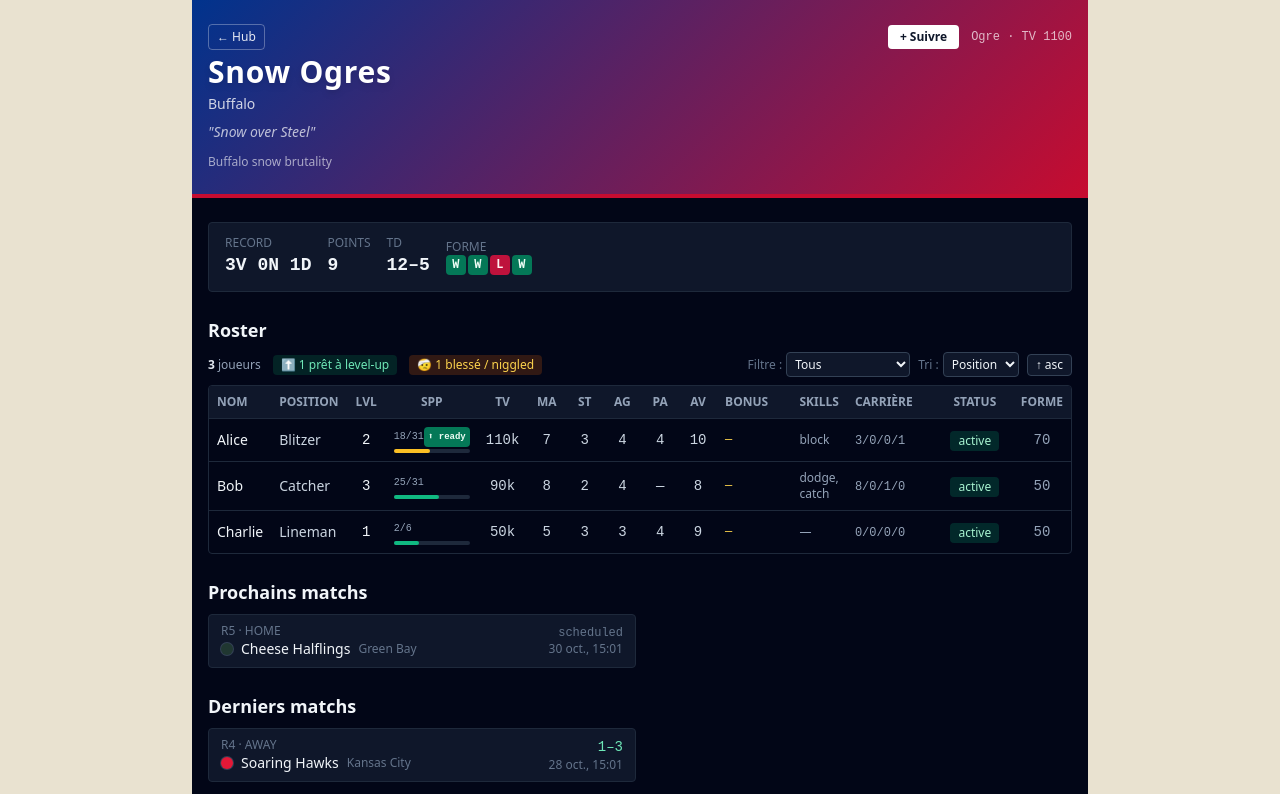
Test case: ProLeagueTeamPage — sprint 1.C.2 › Lot H — filters / sort / ready badge › filtre 'Actifs' exclut les blessés / nigglés
Select "Actifs" in the dropdown with test id "roster-filter" at {"x": 848, "y": 364}, box [786,352,910,377]
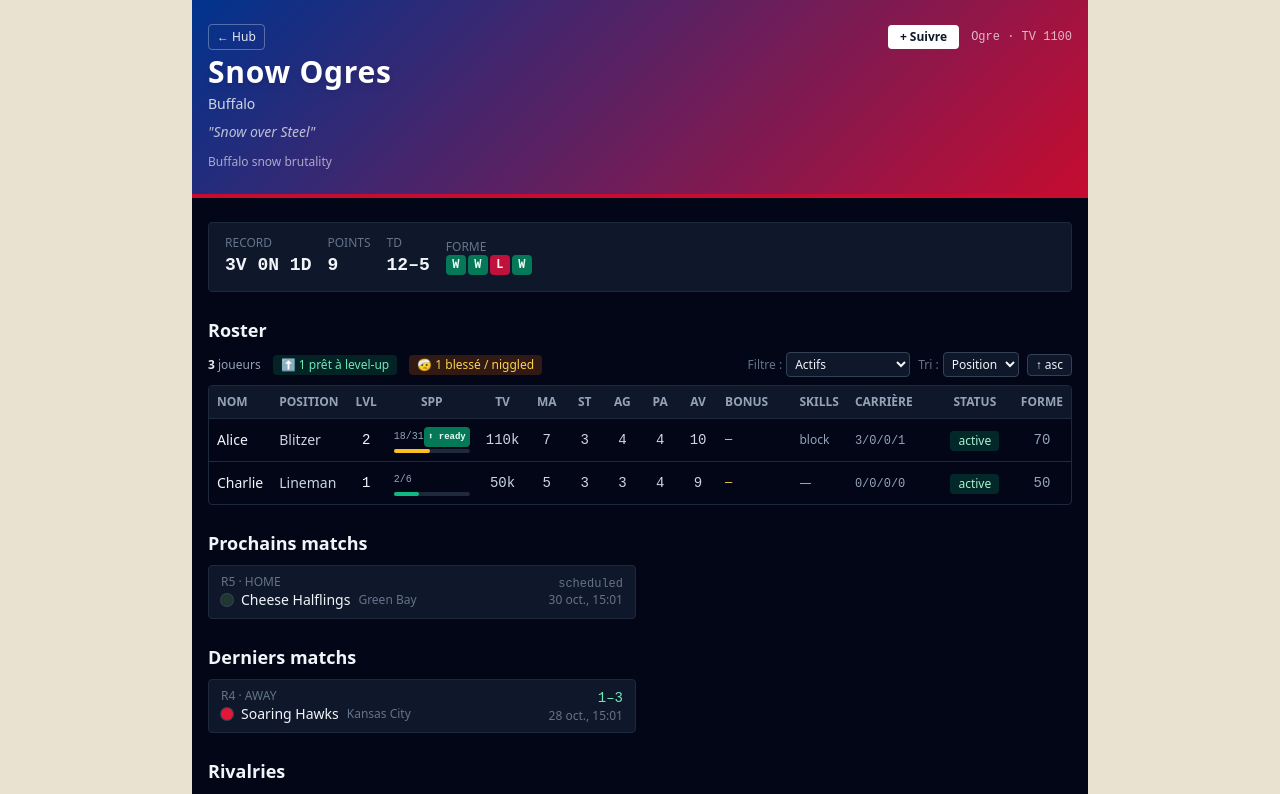
expect the link "Alice" is shown: met, box [217,430,248,449]
expect the link "Bob" is gone: met
